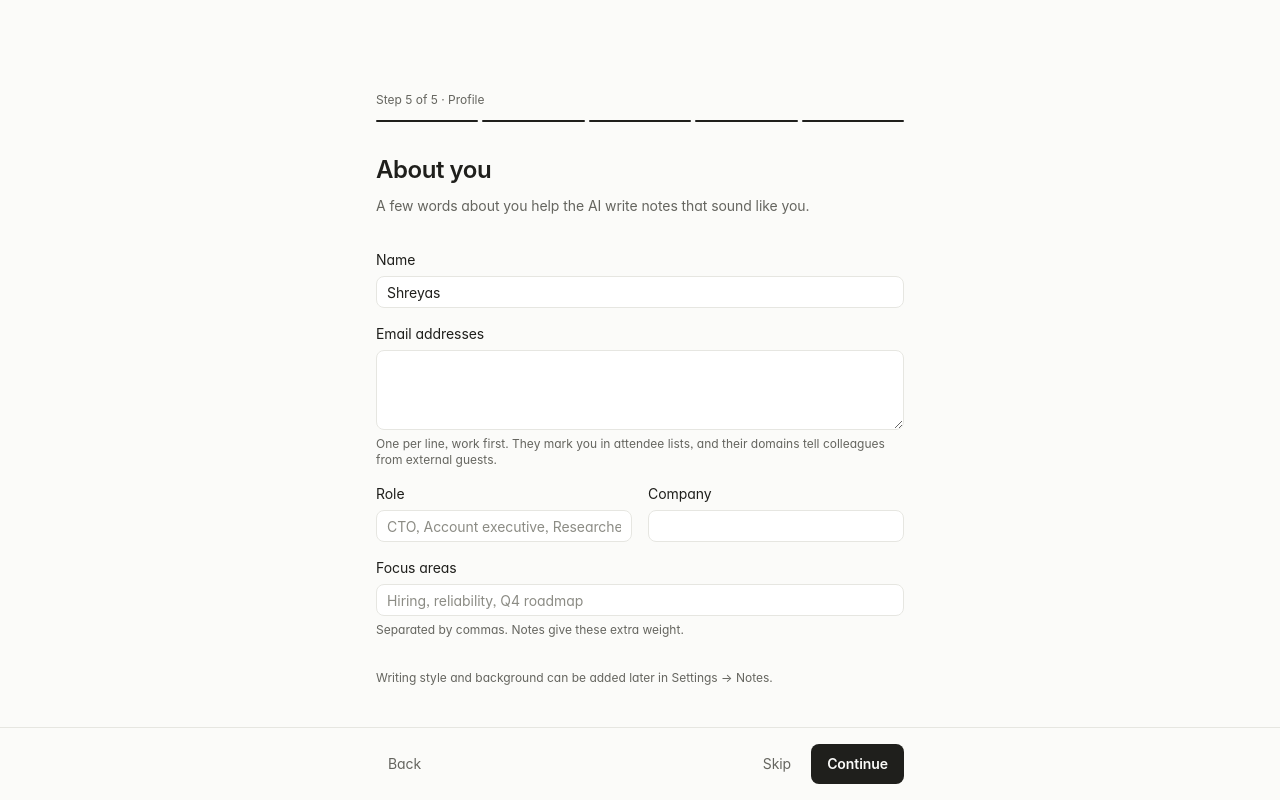
Test case: OnboardingFlow › stays on the profile step when the save fails
Type "CTO" into the field labelled "Role" at x=504, y=526, box [376,510,632,542]
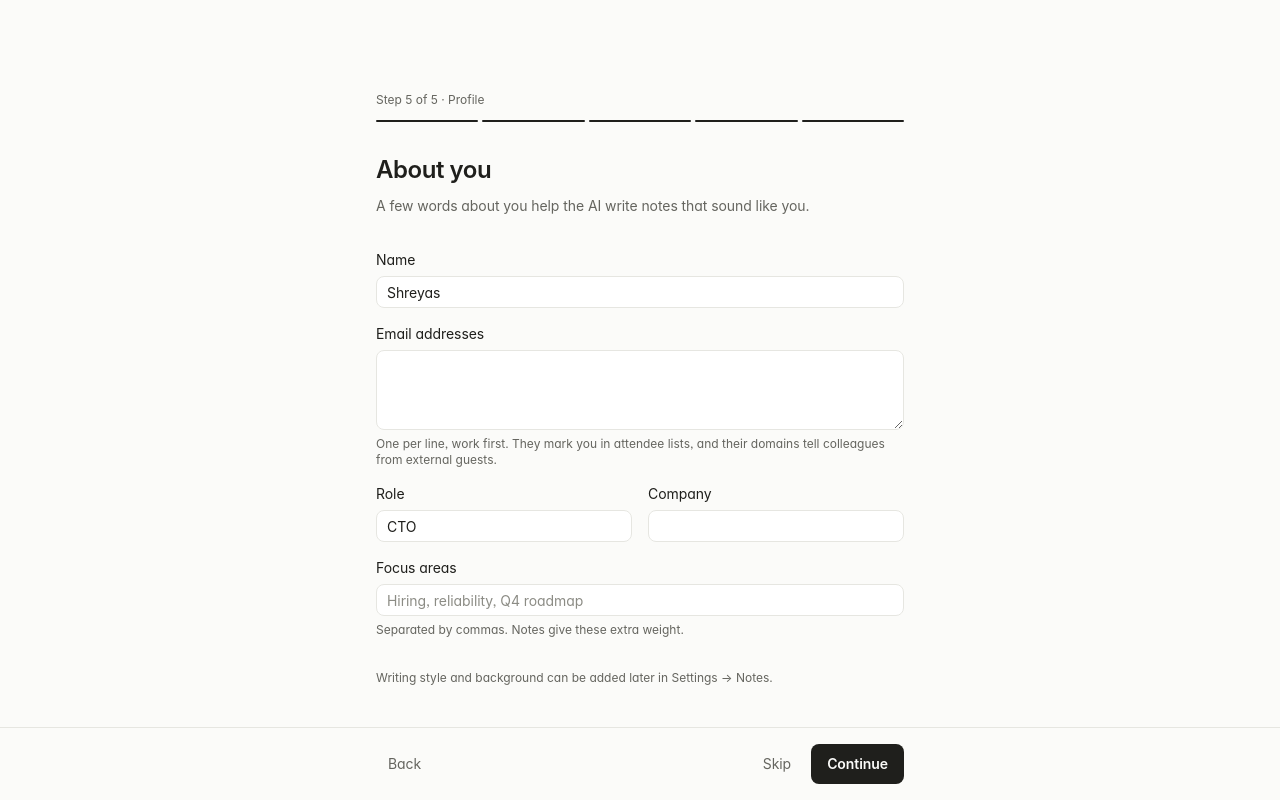
Click the button "Continue" at x=858, y=764, box [811,744,904,784]
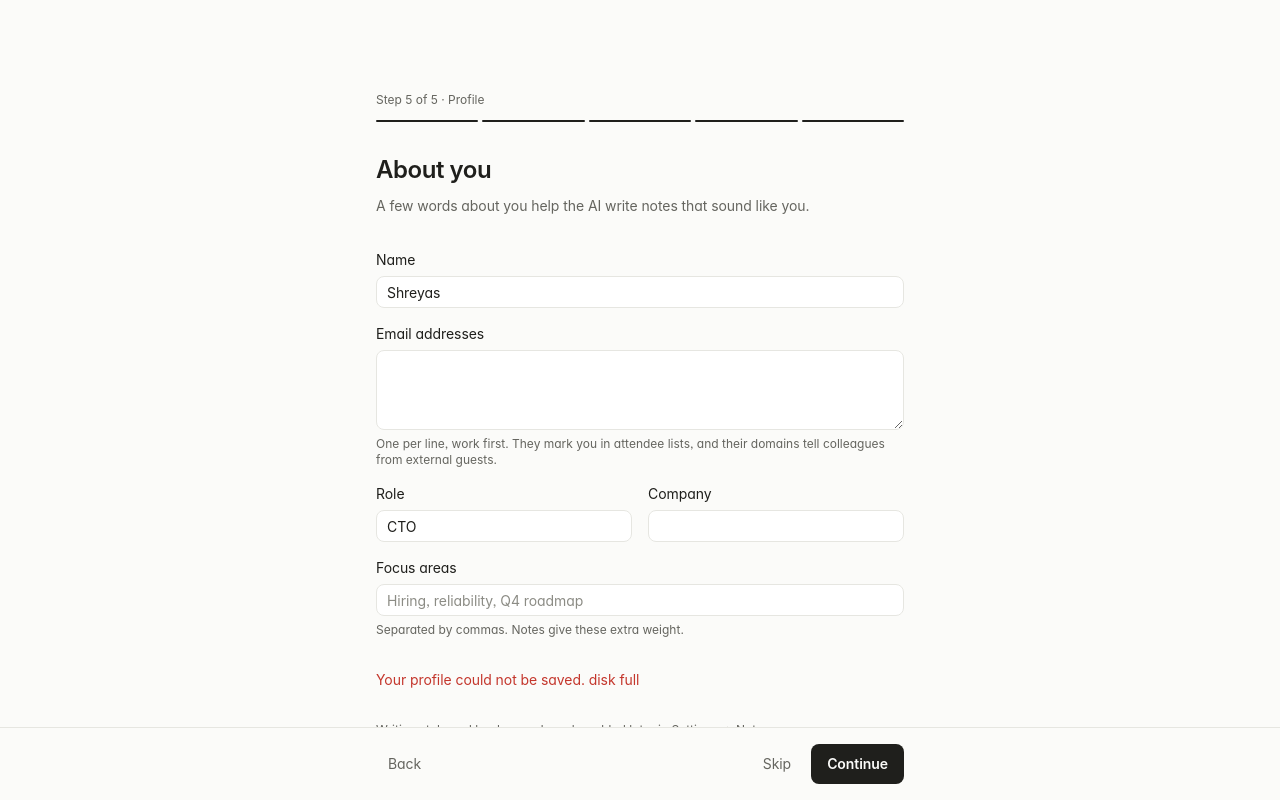
Check: the message shows "disk full", box [589,671,639,688]
